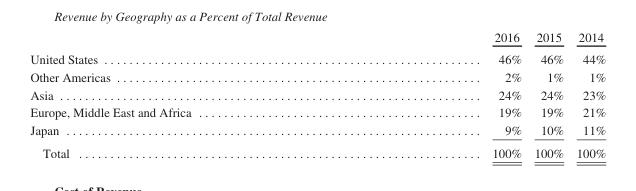table: (29, 29, 605, 159)
table column: (29, 29, 341, 159), (341, 29, 527, 159), (527, 29, 569, 159), (569, 29, 605, 159)
table column header: (29, 29, 605, 47)
table row: (29, 120, 605, 141), (29, 47, 605, 67), (29, 29, 605, 47), (29, 67, 605, 85), (29, 85, 605, 103), (29, 141, 605, 159), (29, 103, 605, 120)
